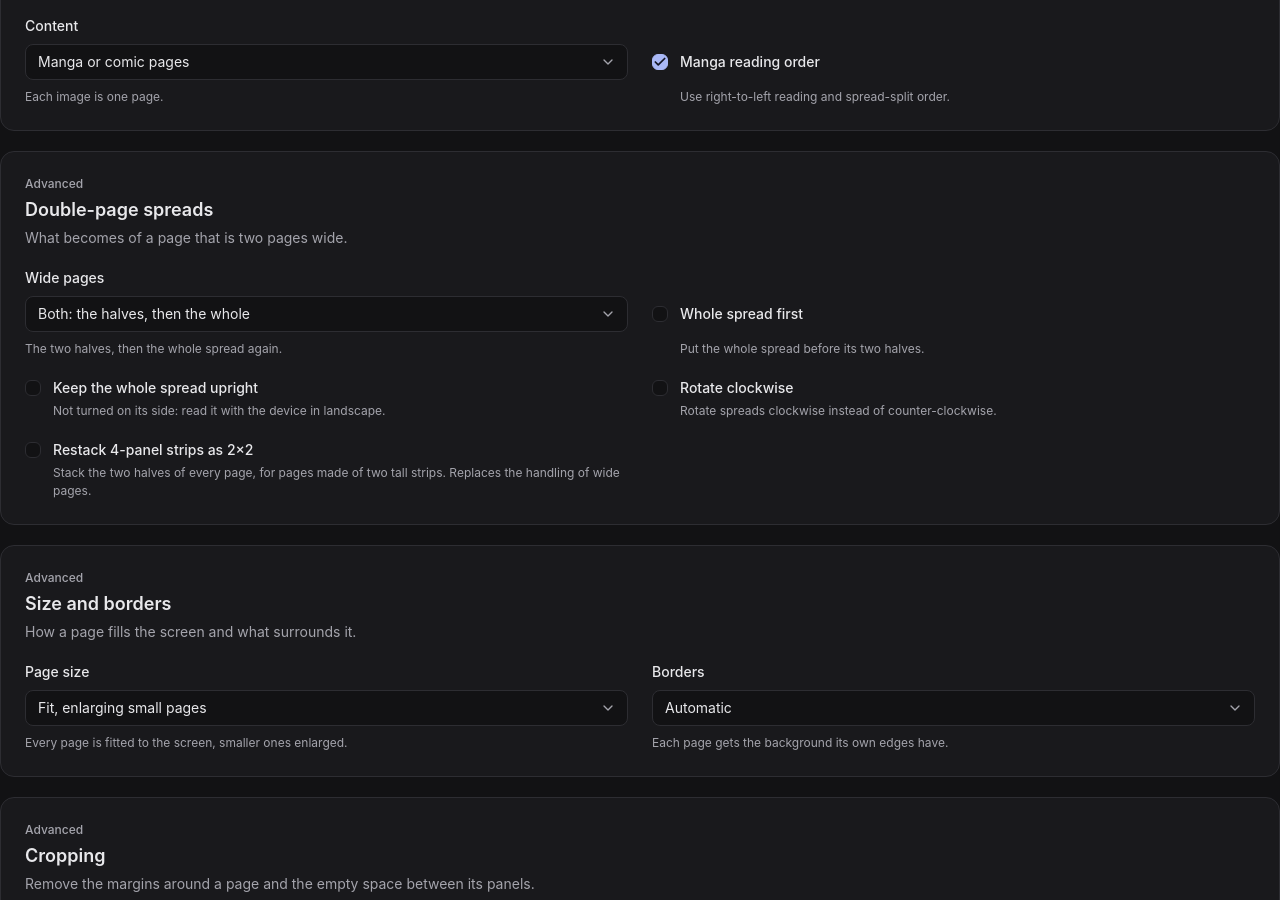
mangaprep settings editor › replaces the handling of wide pages when strips are restacked
(page scrolled)
Click the checkbox named "Restack 4-panel strips as 2×2" next to "Restack 4-panel strips as 2×2".
click(33, 450)  # box [25, 442, 41, 458]
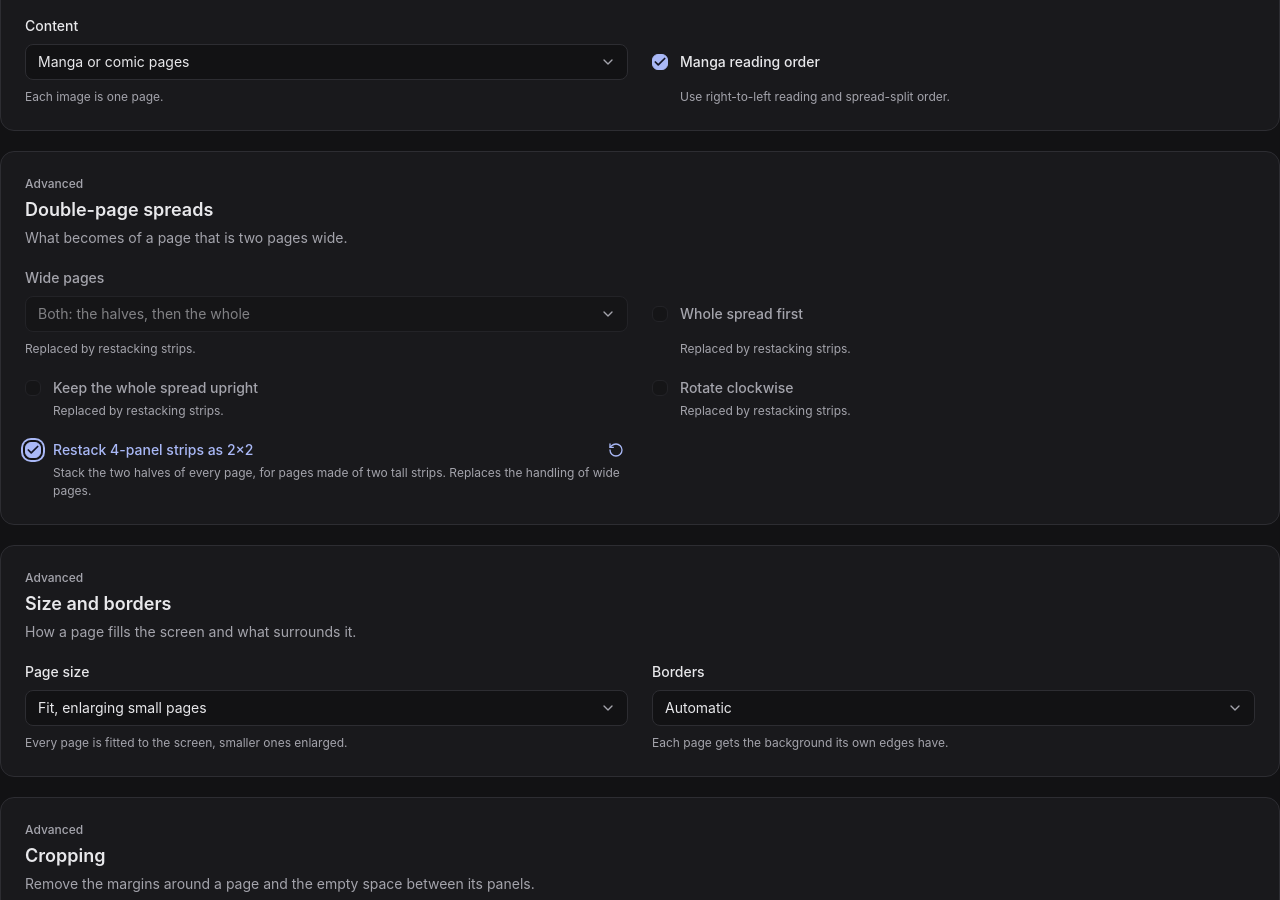
Expected: the text "Replaced by restacking strips." is shown 4 times, [25, 341, 196, 356]; [680, 341, 851, 356]; [53, 403, 224, 418]; [680, 403, 851, 418]
Result: the dropdown labelled "Wide pages" is disabled at [25, 296, 628, 332]
